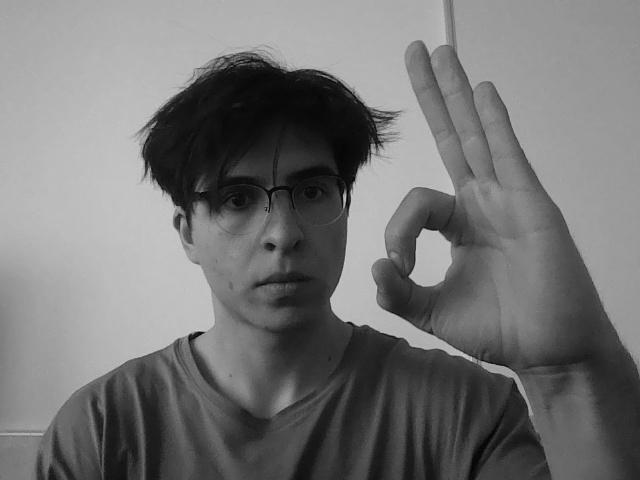OK: (372, 40, 619, 373)
